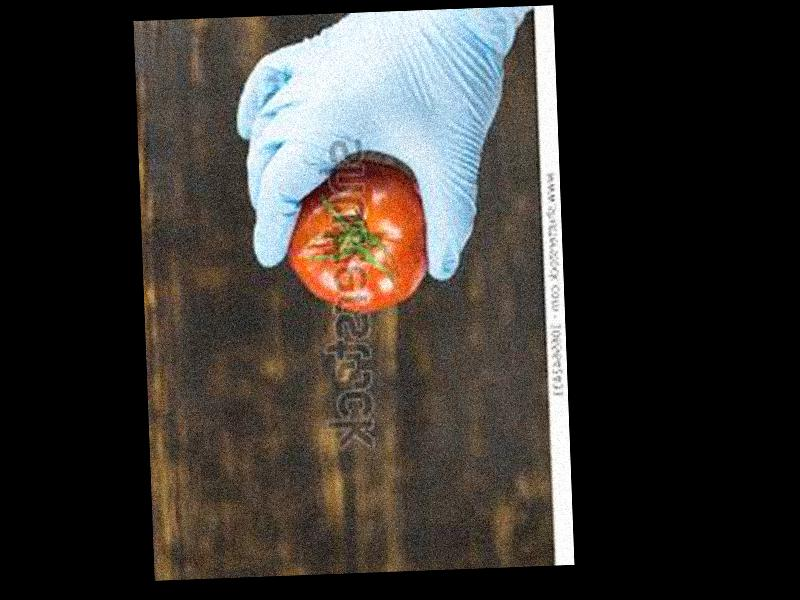Tomato: (284, 157, 430, 317)
